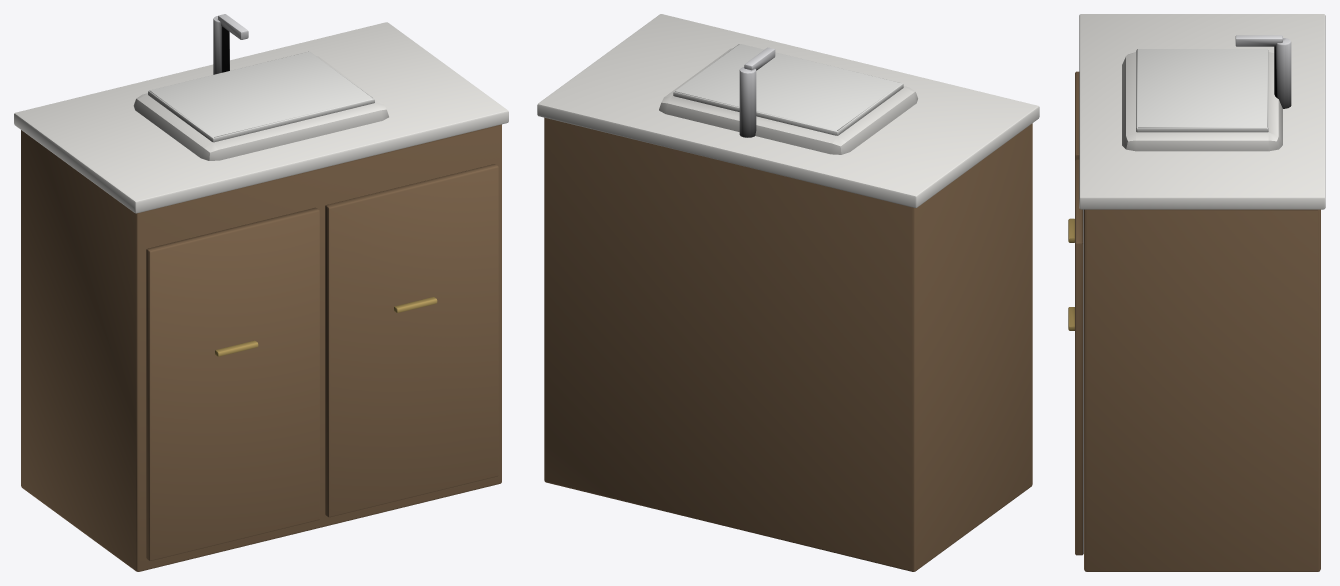
Rendered from vanity_unit.glb.
3 renders of one model, left to right at view 1: azimuth 30°, elevation 25°; view 2: azimuth 150°, elevation 25°; view 3: azimuth 270°, elevation 25°, orthographic.
Parts seen in each view (by area): view 1: vanity_unit; view 2: vanity_unit; view 3: vanity_unit.
Boxes of the visible parts, left/top/right/bottom form: vanity_unit: left=14, top=14, right=508, bottom=571; vanity_unit: left=537, top=14, right=1039, bottom=571; vanity_unit: left=1068, top=14, right=1325, bottom=571.
Bounding box in the file's own units: 0.92 × 1.04 × 0.543.
